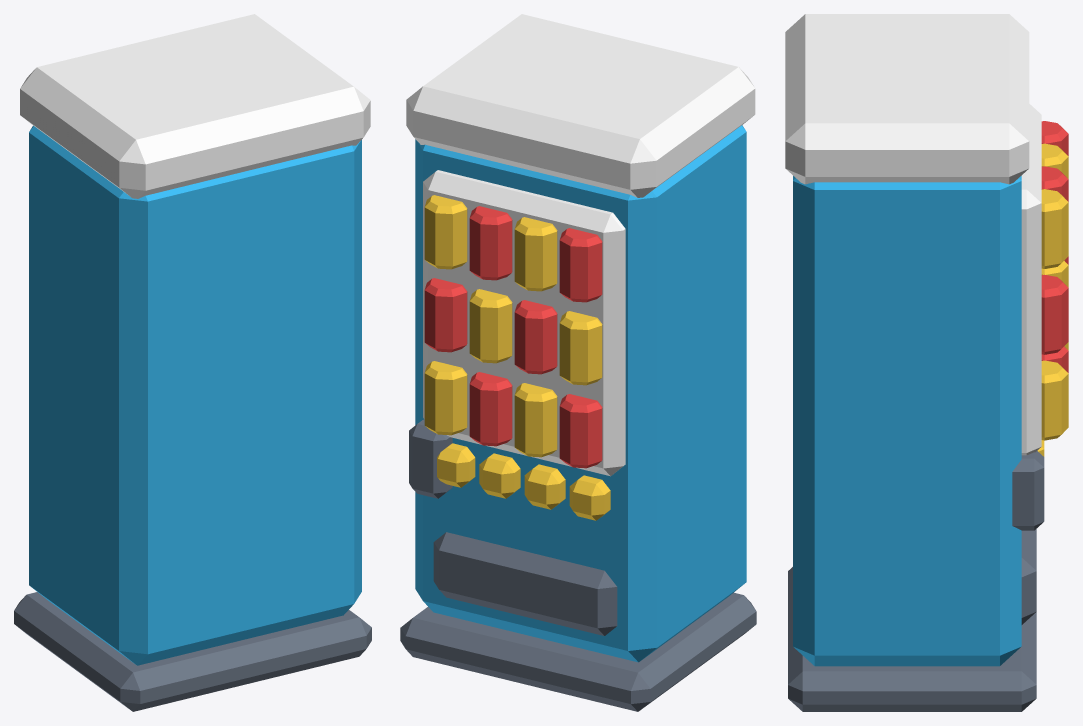
File: Prop_shared_VendingMachine.glb
3 renders of one model, left to right at view 1: azimuth 30°, elevation 25°; view 2: azimuth 150°, elevation 25°; view 3: azimuth 270°, elevation 25°, orthographic. The views are drawn at different scales.
Parts seen in each view (by area): view 1: Blue_38BDF8, White_FFFFFF, StoneDark_6B7686; view 2: Blue_38BDF8, White_FFFFFF, StoneDark_6B7686, Yellow_FFD23F, Red_F04848; view 3: Blue_38BDF8, White_FFFFFF, StoneDark_6B7686, Yellow_FFD23F, Red_F04848.
Boxes of the visible parts, bbox=[...] form: Blue_38BDF8: bbox=[29, 125, 361, 665]; White_FFFFFF: bbox=[20, 14, 370, 198]; StoneDark_6B7686: bbox=[14, 592, 371, 711]; Blue_38BDF8: bbox=[415, 125, 746, 662]; White_FFFFFF: bbox=[406, 14, 755, 476]; StoneDark_6B7686: bbox=[400, 419, 756, 711]; Yellow_FFD23F: bbox=[424, 195, 610, 520]; Red_F04848: bbox=[424, 206, 602, 468]; Blue_38BDF8: bbox=[793, 176, 1021, 666]; White_FFFFFF: bbox=[785, 14, 1041, 455]; StoneDark_6B7686: bbox=[788, 451, 1044, 711]; Yellow_FFD23F: bbox=[1037, 143, 1068, 456]; Red_F04848: bbox=[1041, 121, 1068, 372].
Bounding box in the file's own units: 3 × 6.5 × 2.85.
